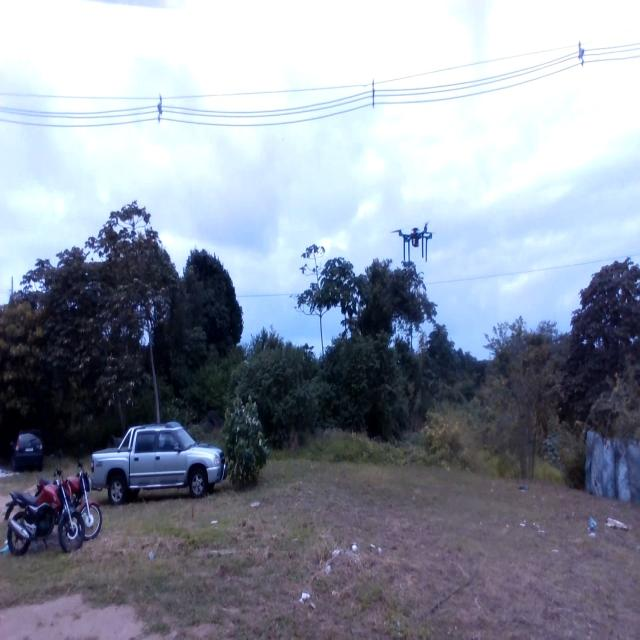-uav-: (386, 213, 446, 277)
